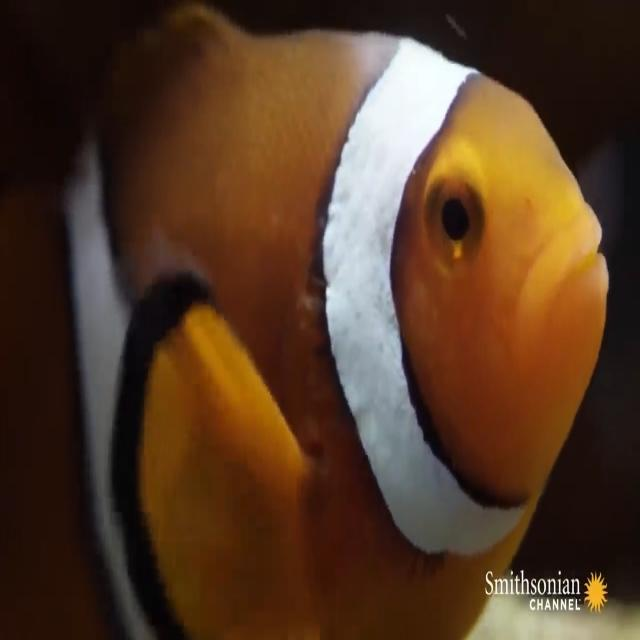Clownfish: (4, 0, 609, 640)
